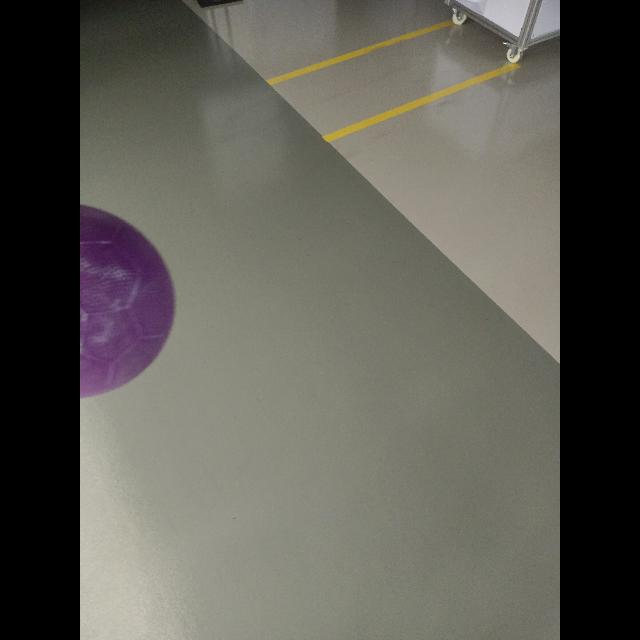P: (80, 206, 176, 402)
